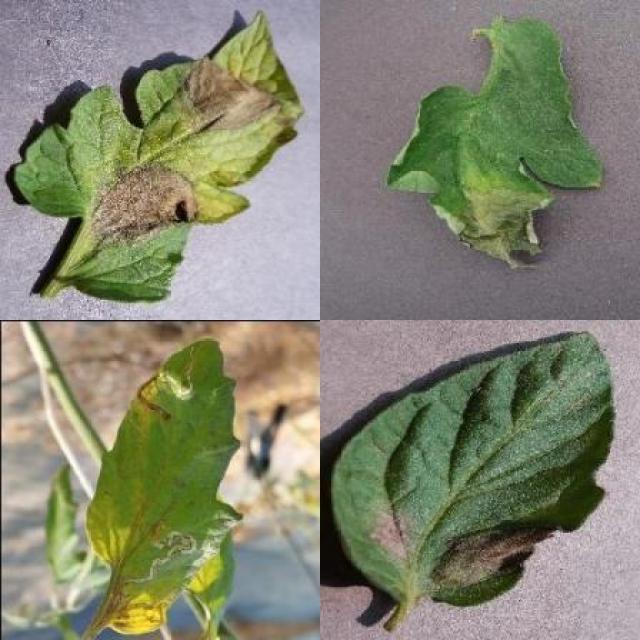Late Blight: (12, 6, 302, 304), (333, 330, 614, 610), (384, 18, 604, 272)
Leaf Miner: (79, 336, 244, 638)
